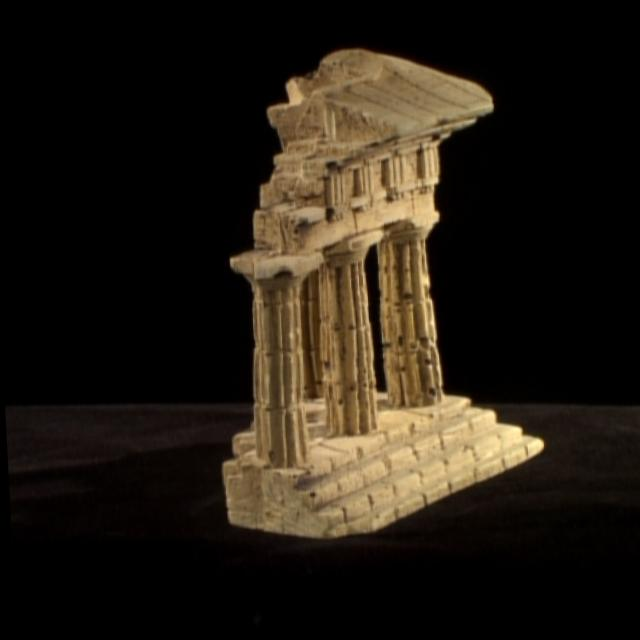Instance-Segmentation: (222, 49, 543, 537)
